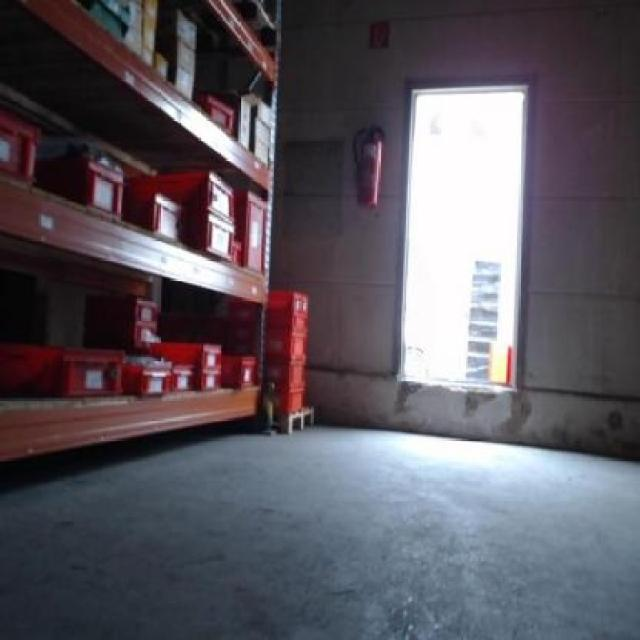floor: (0, 420, 637, 637)
pallets: (265, 289, 311, 431)
